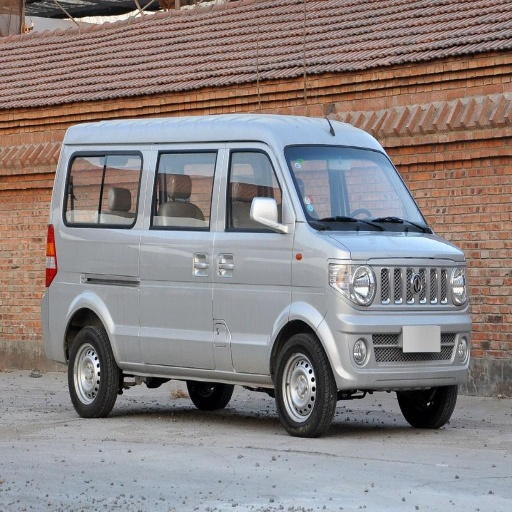back_right_door: (66, 146, 226, 337)
front_bumper: (331, 259, 471, 387)
front_glass: (284, 145, 429, 232)
front_left_door: (121, 272, 229, 367)
front_right_door: (213, 143, 295, 303)
front_right_light: (330, 259, 375, 308)
trunk: (233, 275, 324, 365)
